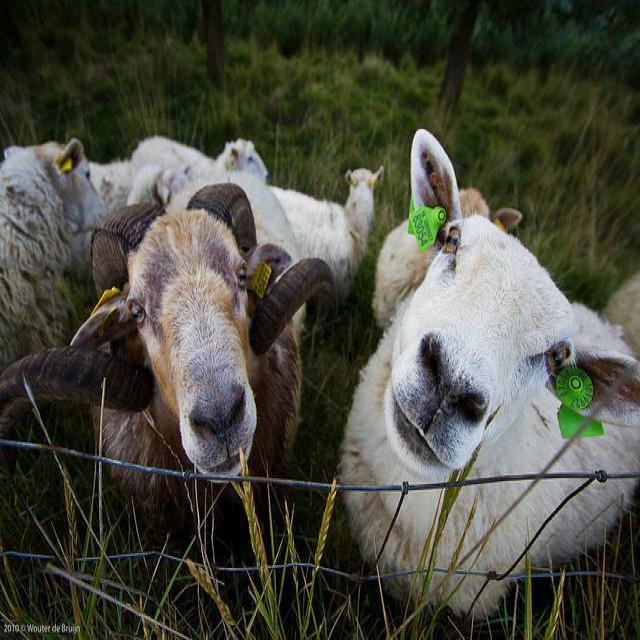Sheep: (334, 129, 639, 634), (71, 174, 307, 544), (0, 138, 105, 367), (375, 186, 522, 330), (243, 167, 383, 296)
